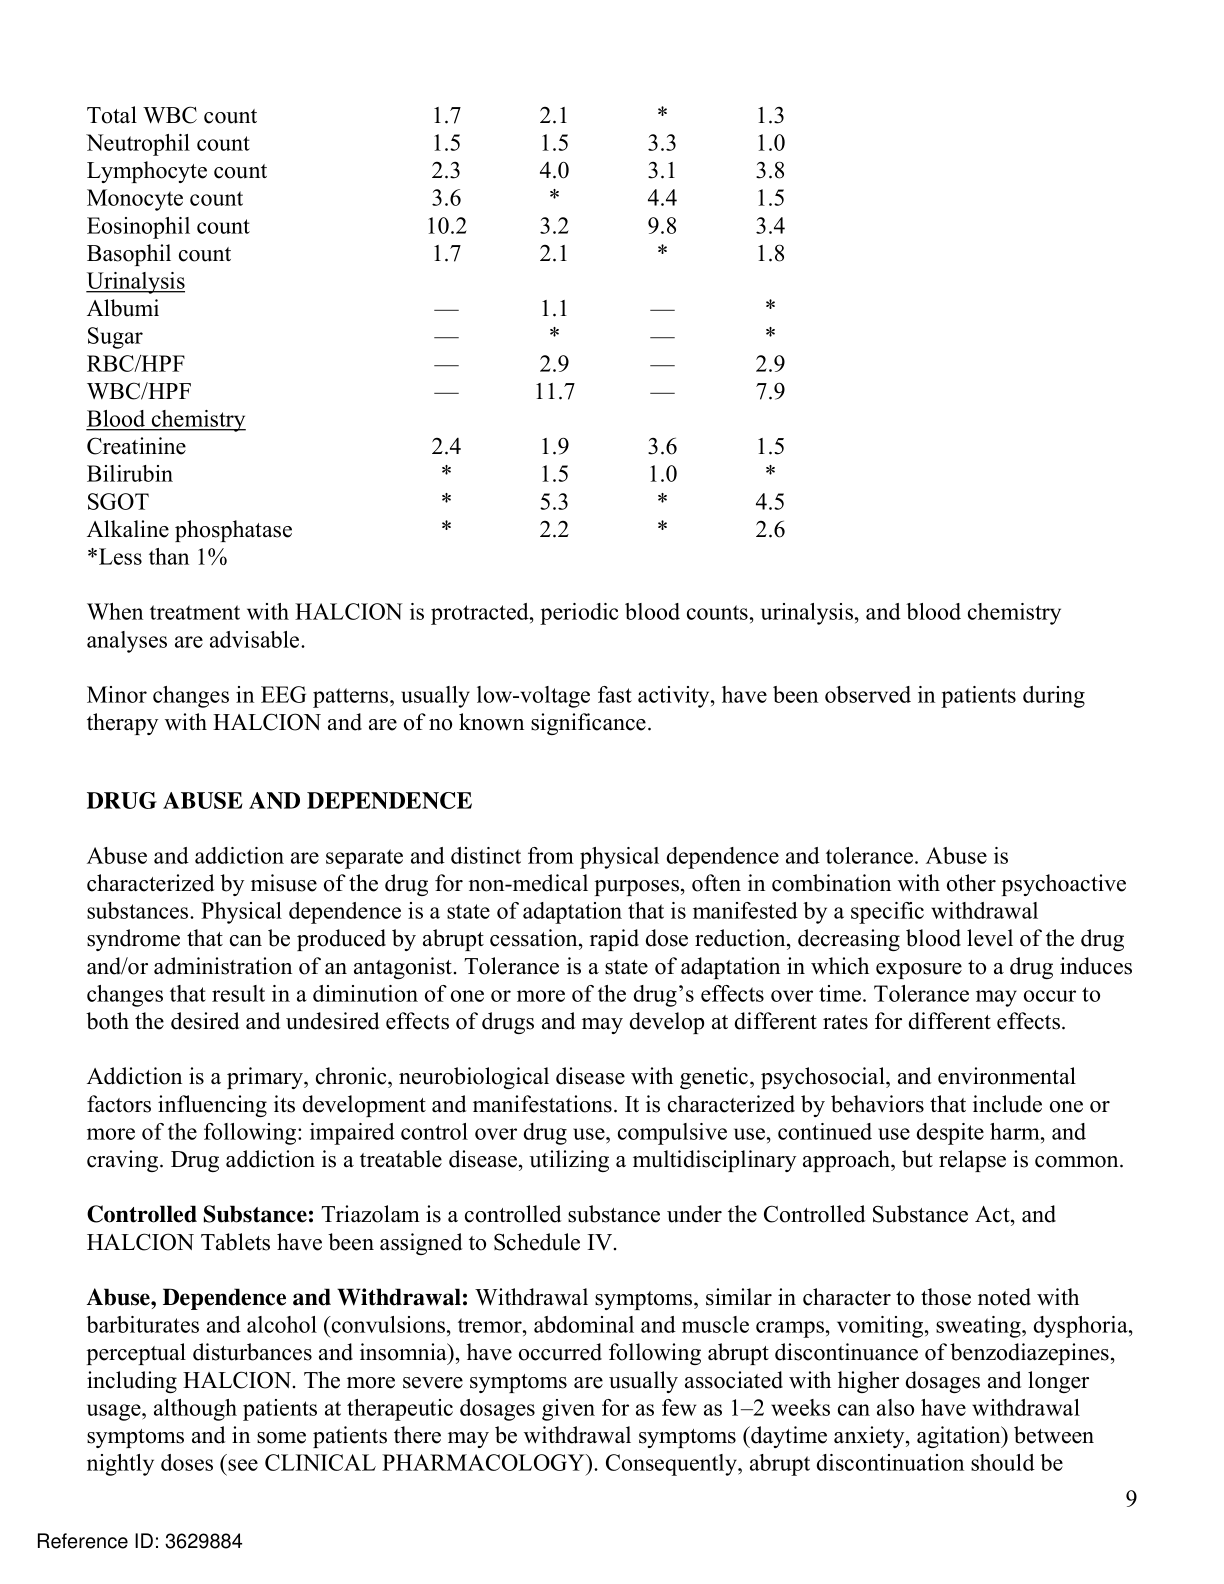nolines: (84, 103, 787, 543)
